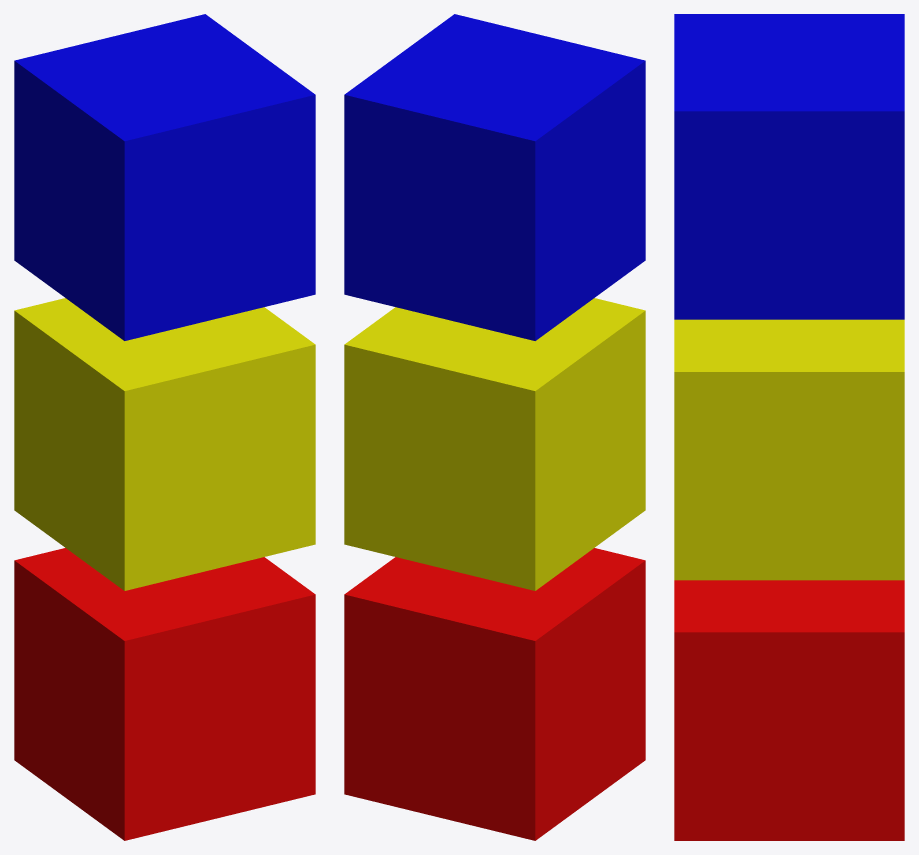
The picture shows the model from 3 angles, left to right: view 1: azimuth 30°, elevation 25°; view 2: azimuth 150°, elevation 25°; view 3: azimuth 270°, elevation 25°; orthographic projection. The views are drawn at different scales.
Parts seen in each view (by area): view 1: Cube.002, Cube.001, Cube; view 2: Cube.002, Cube.001, Cube; view 3: Cube.002, Cube.001, Cube.
Part boxes in pixels (<box>): Cube.002: <box>14,14,315,340</box>; Cube.001: <box>14,298,315,590</box>; Cube: <box>14,548,315,840</box>; Cube.002: <box>344,14,645,340</box>; Cube.001: <box>344,298,645,590</box>; Cube: <box>344,548,645,840</box>; Cube.002: <box>674,14,904,319</box>; Cube.001: <box>674,319,904,580</box>; Cube: <box>674,580,904,840</box>.
Bounding box in the file's own units: 2 × 2 × 7.
